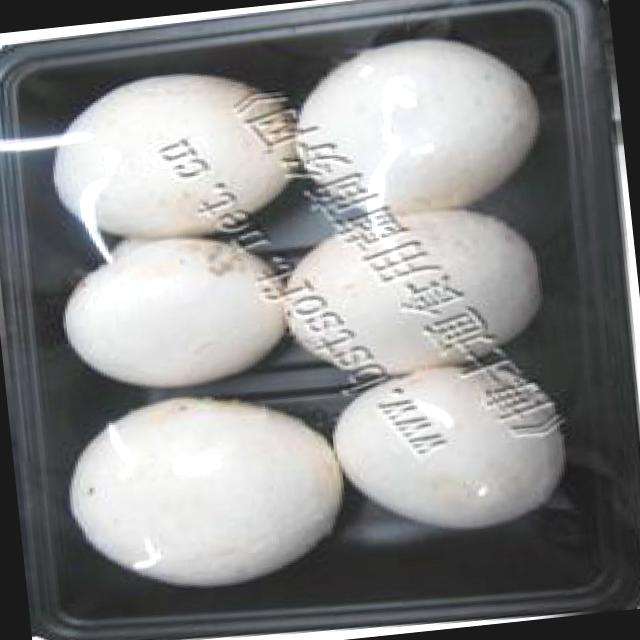Agaricus bisporus: (57, 386, 346, 588), (289, 28, 552, 219), (277, 202, 546, 382), (48, 65, 296, 239), (332, 360, 570, 539), (61, 234, 282, 386)
